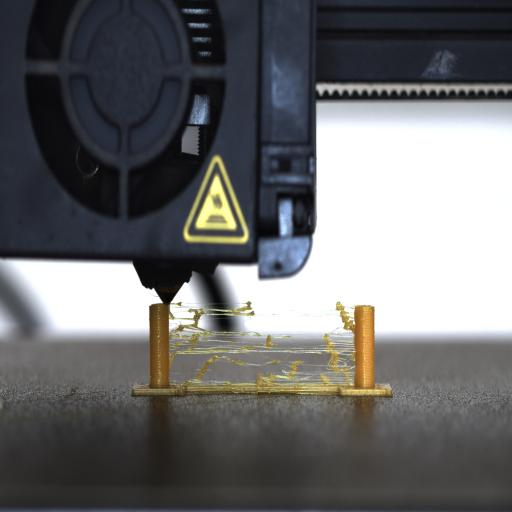stringing: (169, 301, 356, 386)
